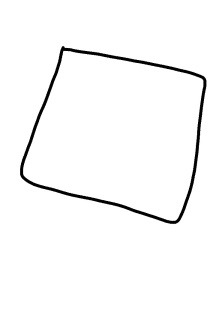Square: (16, 44, 208, 226)
